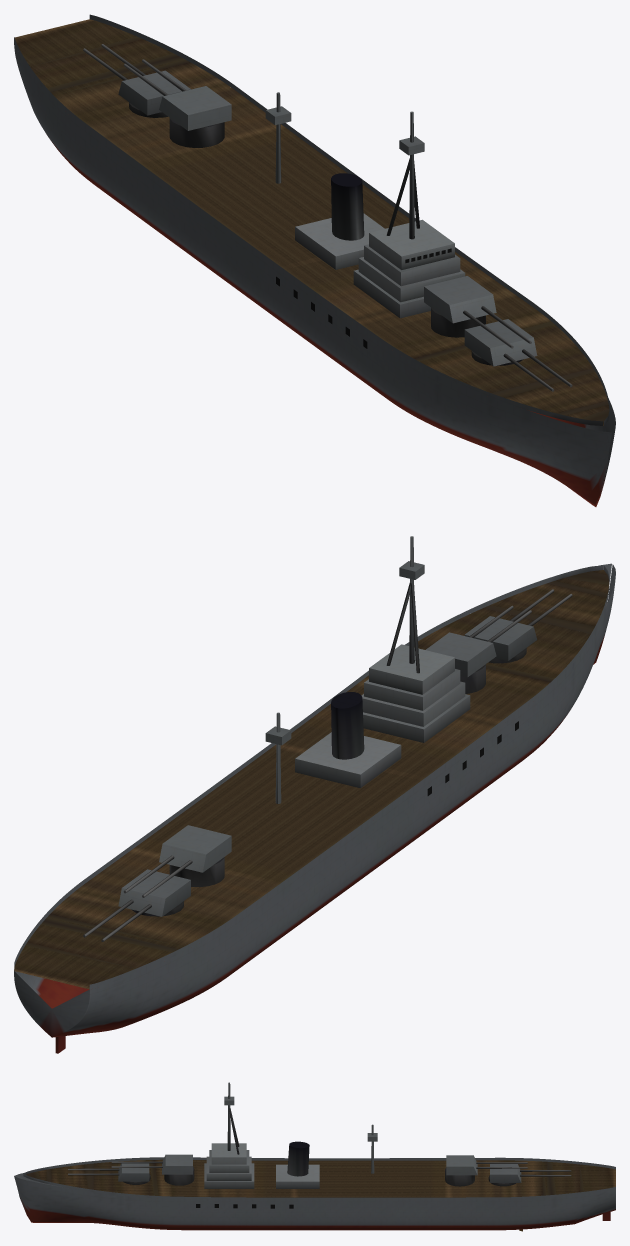
Rendered from model_built.glb.
3 renders of one model, top to bottom at view 1: azimuth 30°, elevation 25°; view 2: azimuth 150°, elevation 25°; view 3: azimuth 270°, elevation 25°, orthographic. The views are drawn at different scales.
Visible parts, largest first — view 1: main; view 2: main; view 3: main.
Part boxes in pixels (bbox=[...]): main: bbox=[14, 14, 615, 506]; main: bbox=[14, 536, 615, 1053]; main: bbox=[14, 1082, 615, 1231].
Bounding box in the file's own units: 30.16 × 49.55 × 193.
2 materials, 2 textured.
